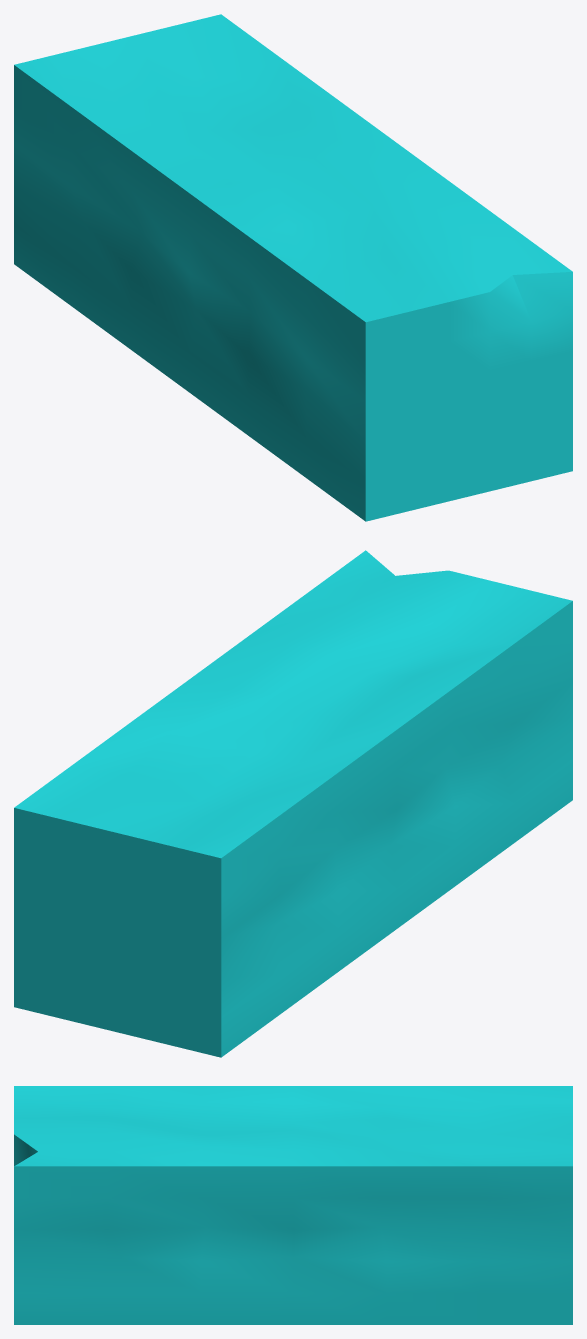
The model's file is wood log 0.5 v1.fbx.
3 views of the same model, one above another, from view 1: azimuth 30°, elevation 25°; view 2: azimuth 150°, elevation 25°; view 3: azimuth 270°, elevation 25° (orthographic). The views are drawn at different scales.
Parts seen in each view (by area): view 1: wood log 0.5 v1; view 2: wood log 0.5 v1; view 3: wood log 0.5 v1.
Boxes of the visible parts, bbox=[...] form: wood log 0.5 v1: bbox=[14, 14, 572, 521]; wood log 0.5 v1: bbox=[14, 550, 572, 1057]; wood log 0.5 v1: bbox=[14, 1086, 572, 1324].
Size of the model in its own units: 0.17 by 0.16 by 0.5.
